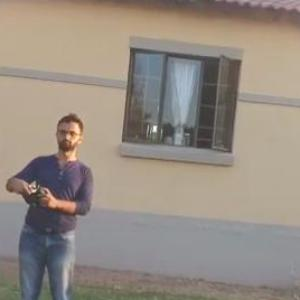follow: (0, 107, 103, 299)
null: (280, 261, 299, 299)
